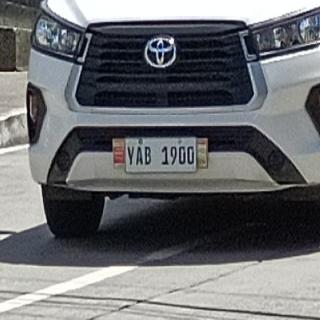license: (126, 139, 197, 174)
